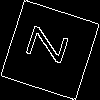Z: (25, 24, 79, 69)
